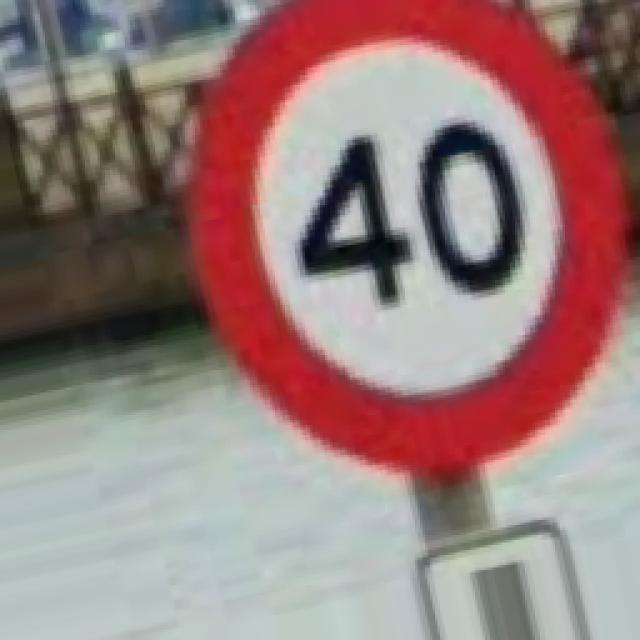Speed Limit -40-: (192, 0, 625, 472)
